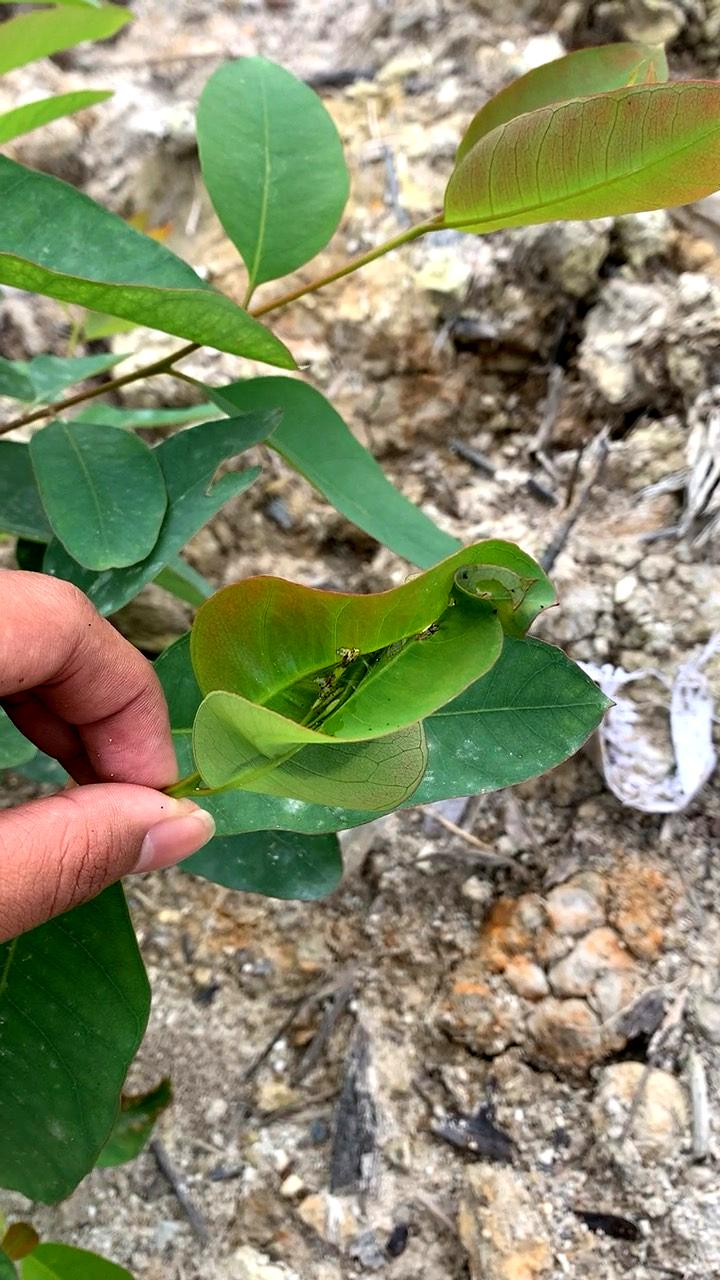Leaf Roller - Leaf: (145, 518, 565, 822)
